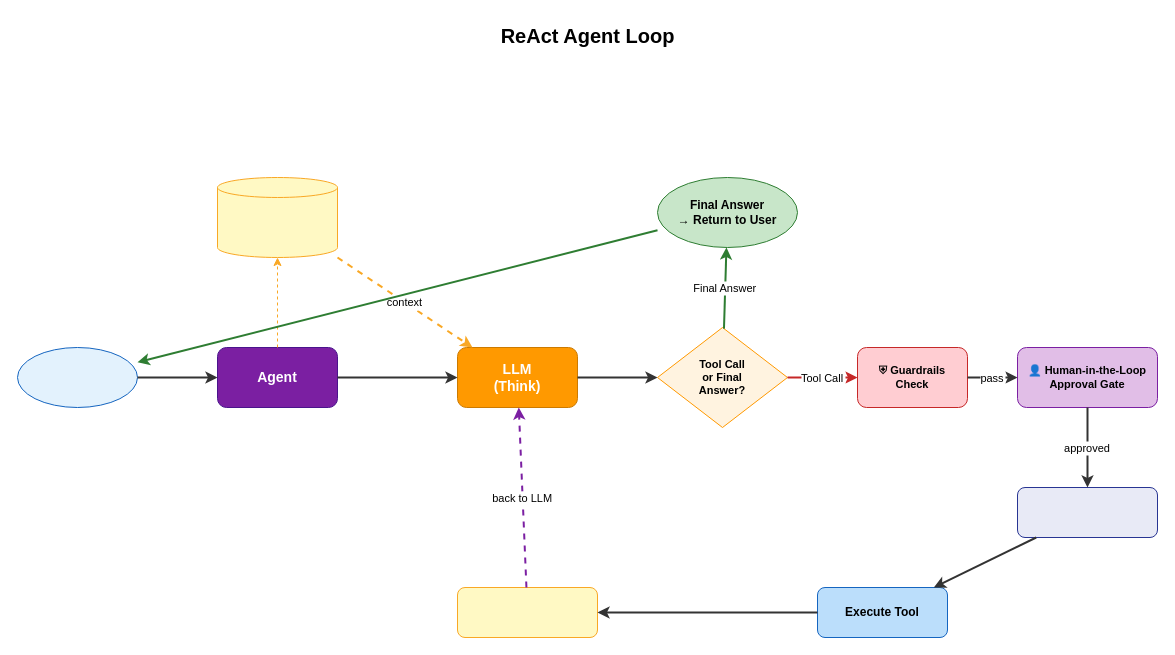
Image size: 1175x655. Some labels were removed from this diagram. The shapes that lost their labels are listed below. From the top down, each one's centre as x and y in pixels, then its label:
At point (277, 217): "Memory (Conversation + Persistent)".
At point (77, 377): "User Task".
At point (1087, 512): "Tool Registry".
At point (527, 612): "Observation (Tool Result)".
